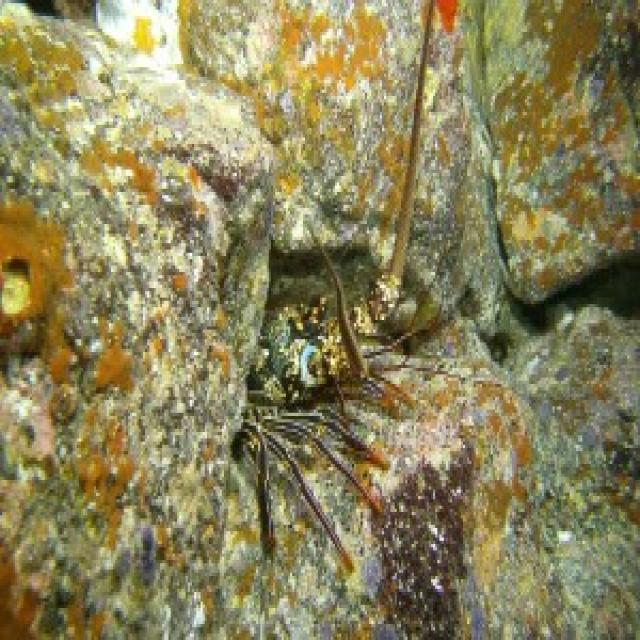lobsters: (210, 120, 493, 580)
